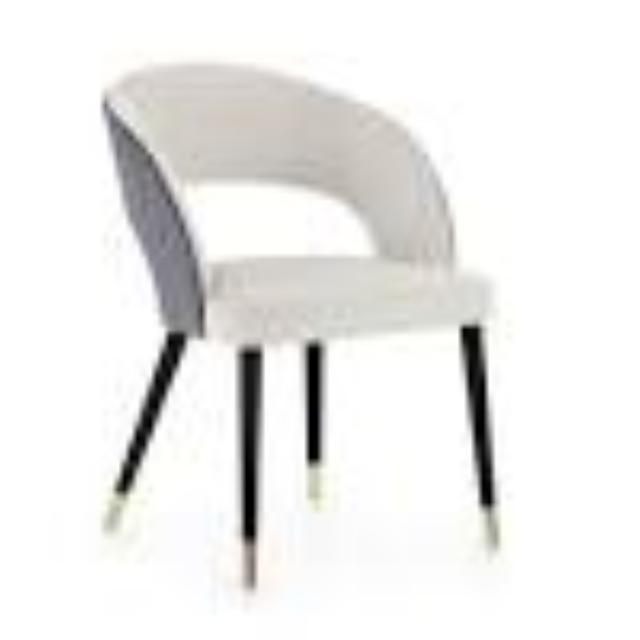obstacle: (57, 49, 607, 602)
